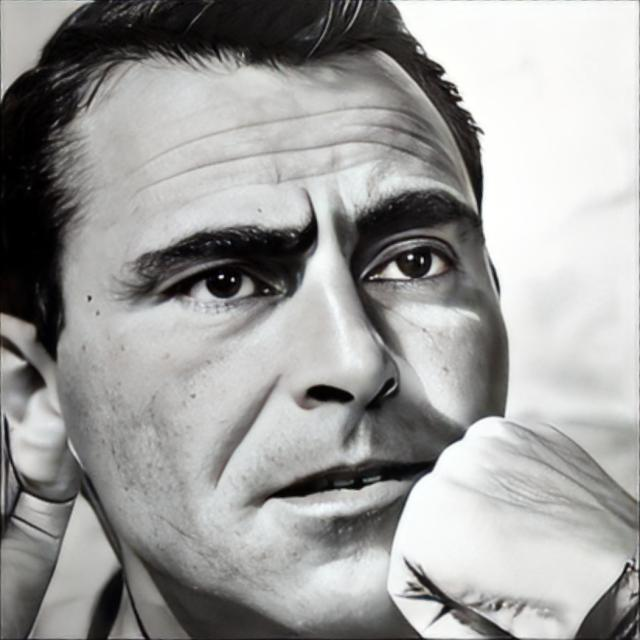anger: (76, 87, 502, 618)
